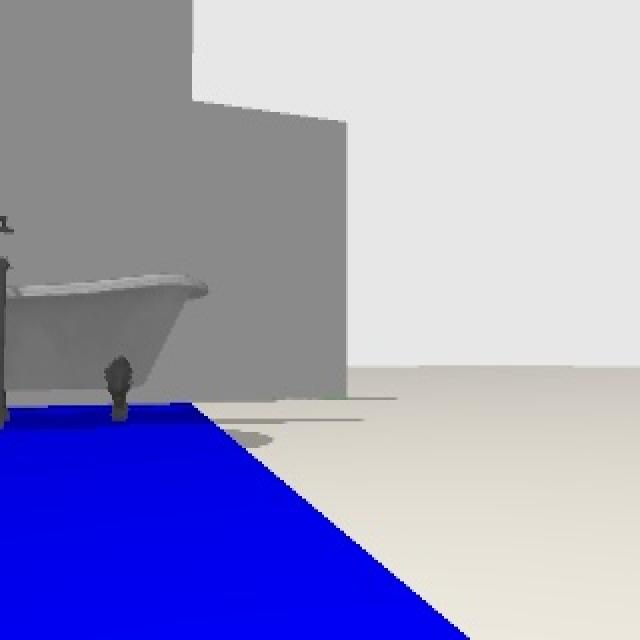bathtub: (0, 213, 210, 436)
